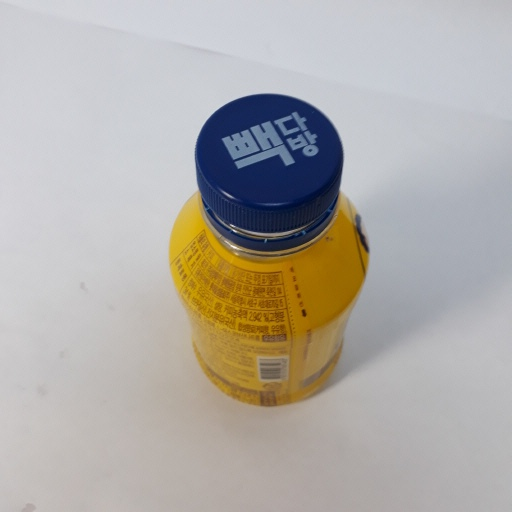Plastic_0: (165, 92, 370, 410)
